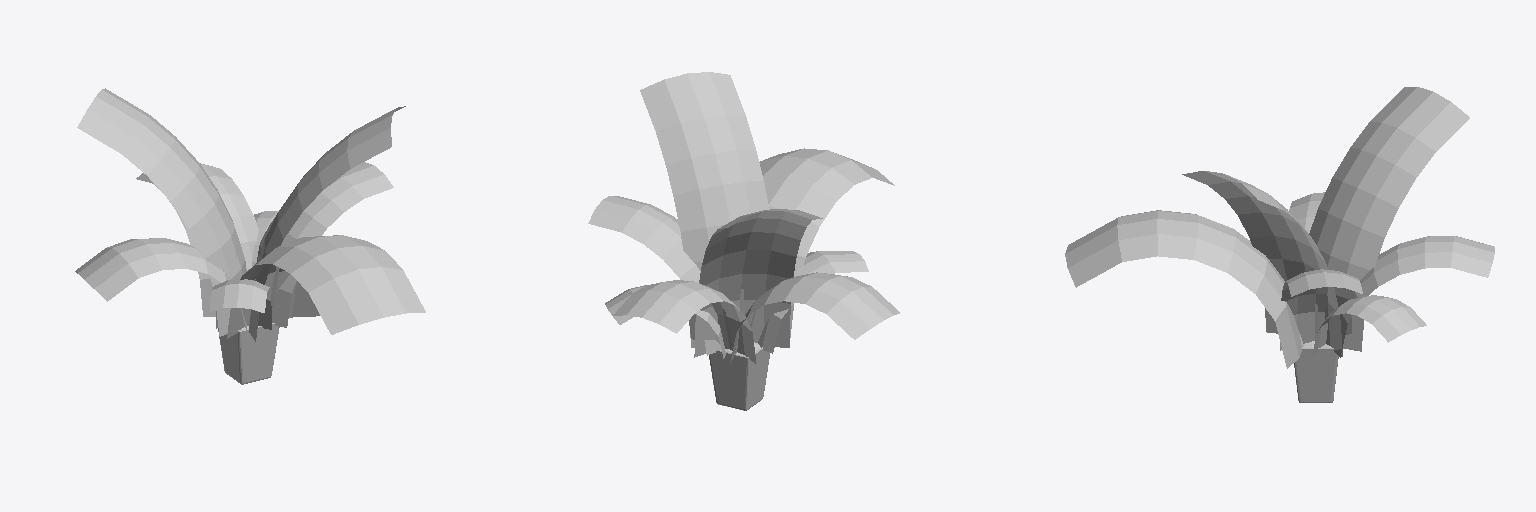
File: Palm 01.obj
The picture shows the model from 3 angles: view 1: azimuth 30°, elevation 25°; view 2: azimuth 150°, elevation 25°; view 3: azimuth 270°, elevation 25°; orthographic projection.
Parts seen in each view (by area): view 1: Palm_01, Palm_0104, Palm_0106, Palm_0105, Palm_0108, Palm_0101, Pot, Palm_0102; view 2: Palm_0106, Palm_0104, Palm_01, Palm_0105, Palm_0101, Palm_0108, Pot, Palm_0102, Palm_0103; view 3: Palm_0104, Palm_01, Palm_0106, Palm_0101, Palm_0108, Palm_0103, Pot, Palm_0105.
Part boxes in pixels (bbox=[...]): Palm_01: bbox=[227, 235, 425, 338]; Palm_0104: bbox=[77, 88, 246, 336]; Palm_0106: bbox=[249, 106, 405, 341]; Palm_0105: bbox=[75, 238, 247, 336]; Palm_0108: bbox=[256, 162, 393, 327]; Palm_0101: bbox=[136, 163, 258, 316]; Pot: bbox=[218, 323, 279, 384]; Palm_0102: bbox=[209, 279, 271, 329]; Palm_0106: bbox=[640, 72, 769, 347]; Palm_0104: bbox=[694, 209, 822, 357]; Palm_01: bbox=[759, 148, 894, 337]; Palm_0105: bbox=[730, 272, 899, 363]; Palm_0101: bbox=[613, 280, 756, 363]; Palm_0108: bbox=[588, 196, 720, 355]; Pot: bbox=[709, 347, 769, 410]; Palm_0102: bbox=[758, 251, 868, 353]; Palm_0103: bbox=[605, 285, 725, 358]; Palm_0104: bbox=[1309, 87, 1469, 351]; Palm_01: bbox=[1065, 210, 1303, 368]; Palm_0106: bbox=[1182, 171, 1342, 356]; Palm_0101: bbox=[1334, 236, 1494, 357]; Palm_0108: bbox=[1280, 269, 1362, 350]; Palm_0103: bbox=[1313, 295, 1426, 354]; Pot: bbox=[1294, 348, 1338, 402]; Palm_0105: bbox=[1289, 192, 1324, 233].
Size of the model in its own units: 66.76 by 60.01 by 86.33.